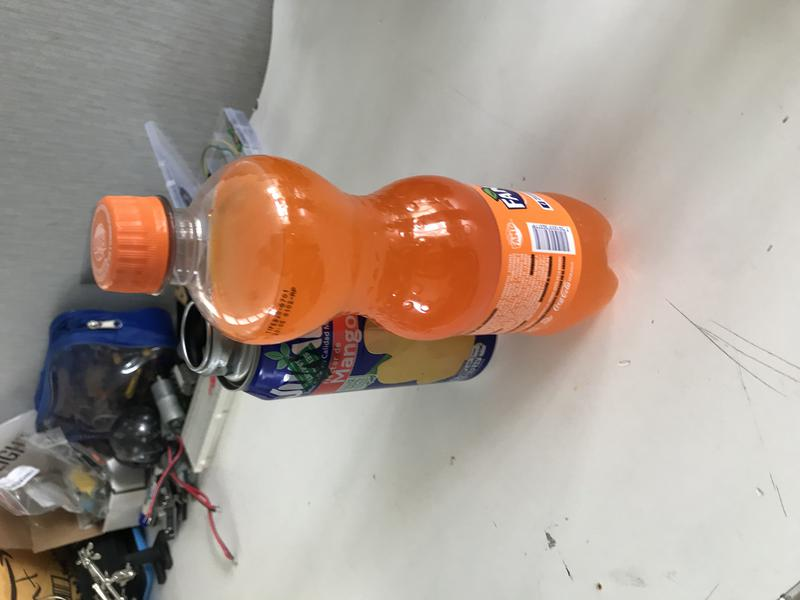fanta: (87, 155, 619, 347)
jumex_botella: (179, 298, 498, 401)
